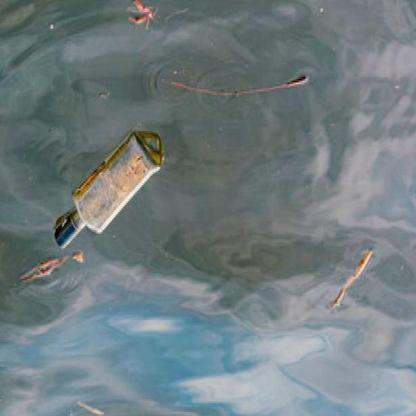plastic bottle: (54, 132, 162, 248)
